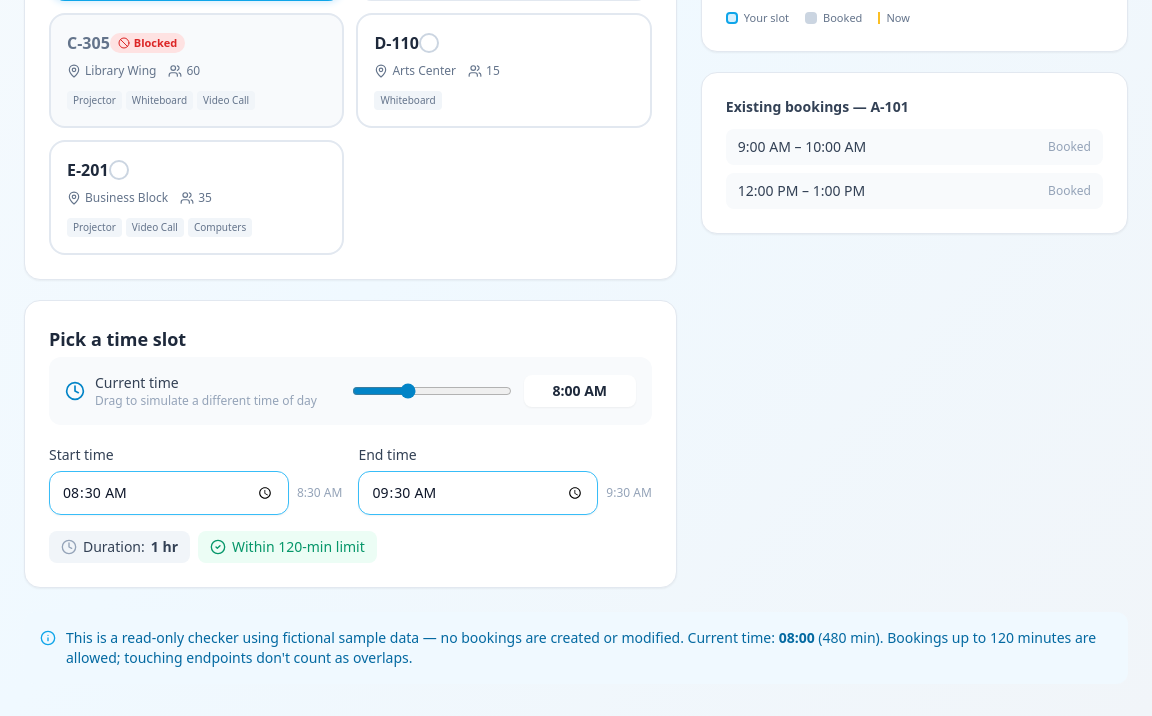
Test: RoomChecker field messages (UI) › shows start message when start is not after current time
(page scrolled)
Step 1. Replace the text in the time field labelled "Start time 8:30 AM" with "07:00" → [169, 493], box x1=49 y1=471 x2=289 y2=515
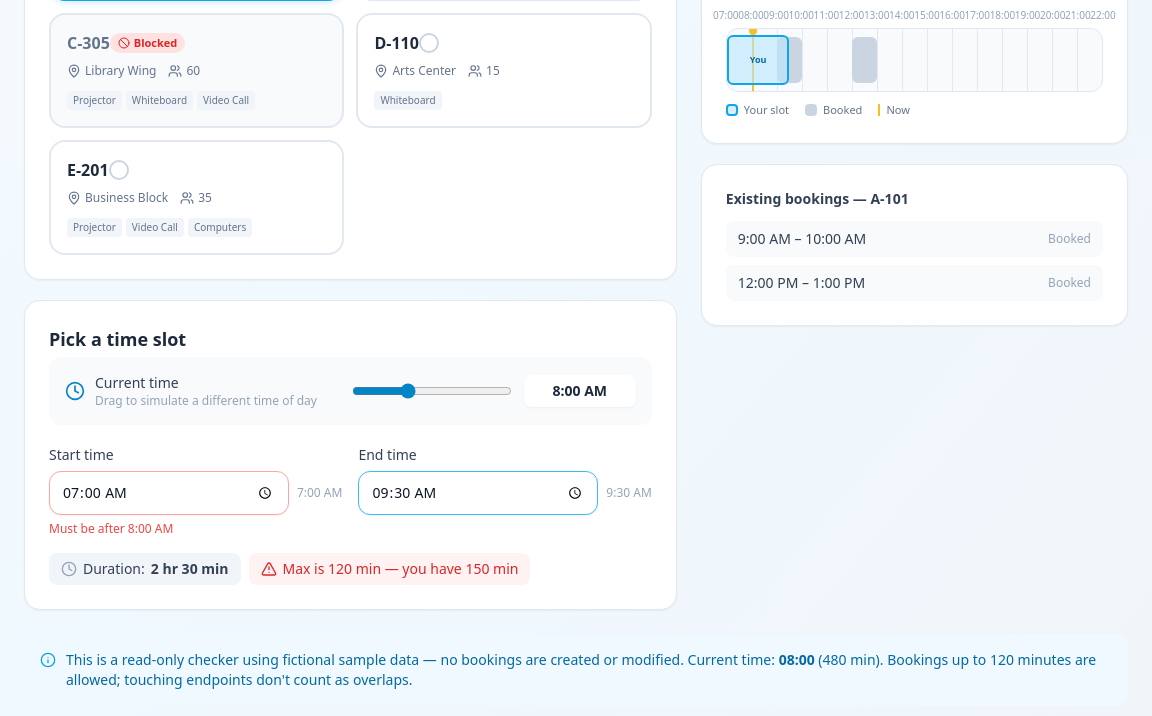
Expected: the text "Must be after 8:00 AM" is shown, x1=49 y1=520 x2=173 y2=537
